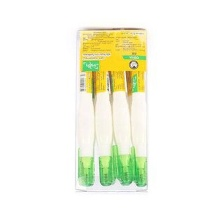correction_fluid: (92, 28, 118, 188), (108, 28, 133, 187), (76, 28, 96, 188), (128, 28, 147, 187)
plastic_box: (71, 23, 151, 196)
